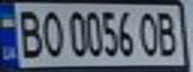0: (63, 7, 84, 57), (84, 7, 103, 57)
5: (100, 7, 121, 57)
6: (115, 8, 139, 57)
B: (12, 6, 45, 60), (154, 8, 184, 59)
O: (36, 7, 66, 58), (136, 8, 163, 57)
